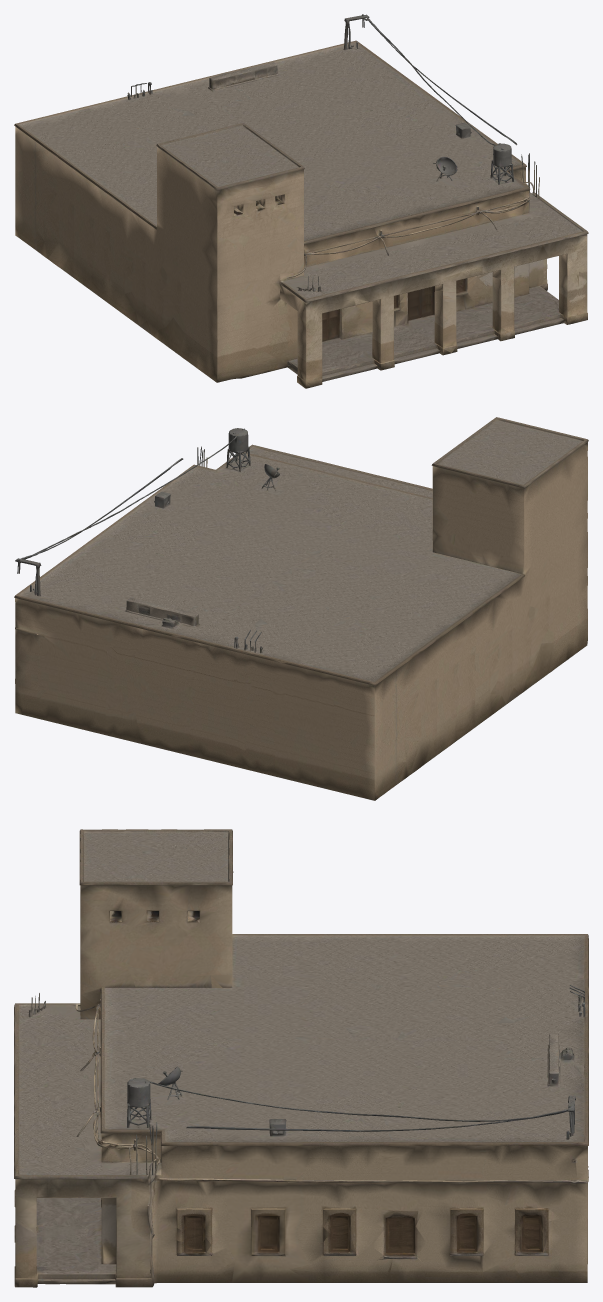
The model's file is hall.glb.
3 renders of one model, top to bottom at view 1: azimuth 30°, elevation 25°; view 2: azimuth 150°, elevation 25°; view 3: azimuth 270°, elevation 25°, orthographic. The views are drawn at different scales.
Parts seen in each view (by area): view 1: wall, roof, trim, metal, glass; view 2: wall, roof, metal, trim; view 3: roof, wall, trim, metal, glass.
Part boxes in pixels (x1,y1,x2,y2): wall: (14, 14, 588, 388); roof: (15, 40, 528, 242); trim: (127, 33, 587, 381); metal: (157, 14, 511, 215); glass: (322, 74, 508, 369); wall: (14, 418, 588, 800); roof: (15, 452, 523, 683); metal: (16, 417, 587, 564); trim: (30, 444, 432, 648); roof: (101, 934, 587, 1143); wall: (14, 830, 588, 1287); trim: (14, 986, 588, 1281); metal: (80, 829, 575, 1123); glass: (14, 1113, 560, 1264).
Bounding box in the file's own units: 8.42 × 4.56 × 9.62.
1 material, 1 textured.
